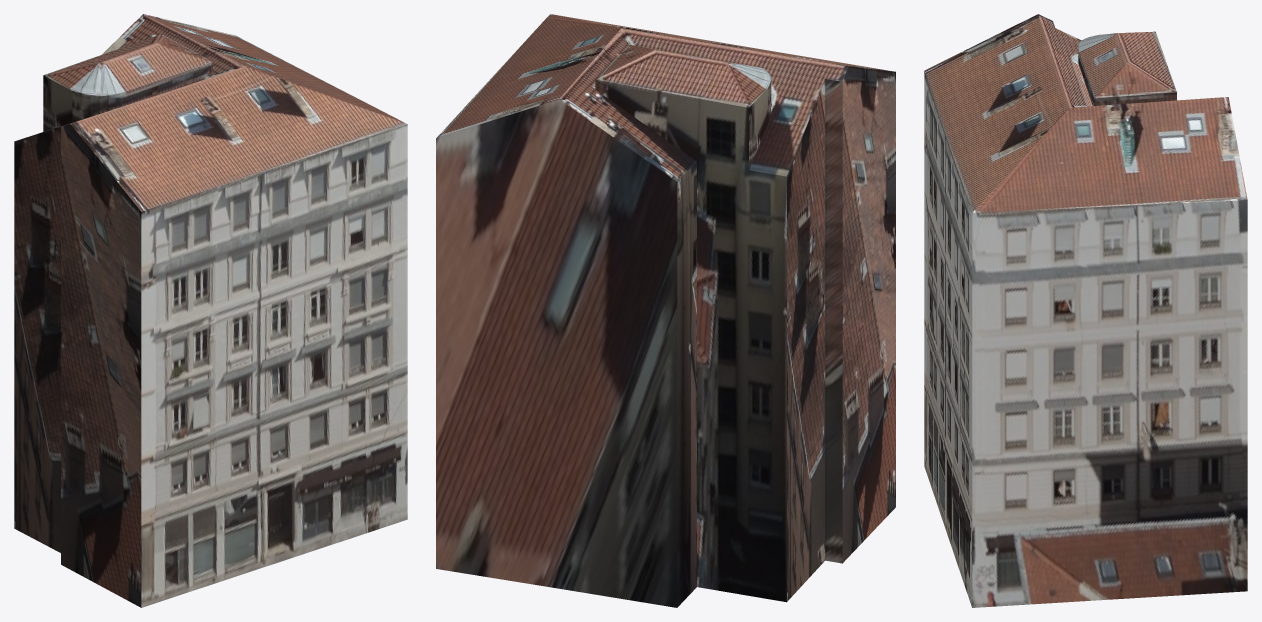
3 renders of one model, left to right at view 1: azimuth 30°, elevation 25°; view 2: azimuth 150°, elevation 25°; view 3: azimuth 270°, elevation 25°, orthographic. The views are drawn at different scales.
Visible parts, largest first — view 1: Z_UP; view 2: Z_UP; view 3: Z_UP.
Boxes of the visible parts, left/top/right/bottom form: Z_UP: left=14, top=14, right=407, bottom=607; Z_UP: left=436, top=14, right=895, bottom=607; Z_UP: left=924, top=14, right=1247, bottom=607.
Bounding box in the file's own units: 18.94 × 27.3 × 17.33.
Materials: 2 (1 with a texture image).
